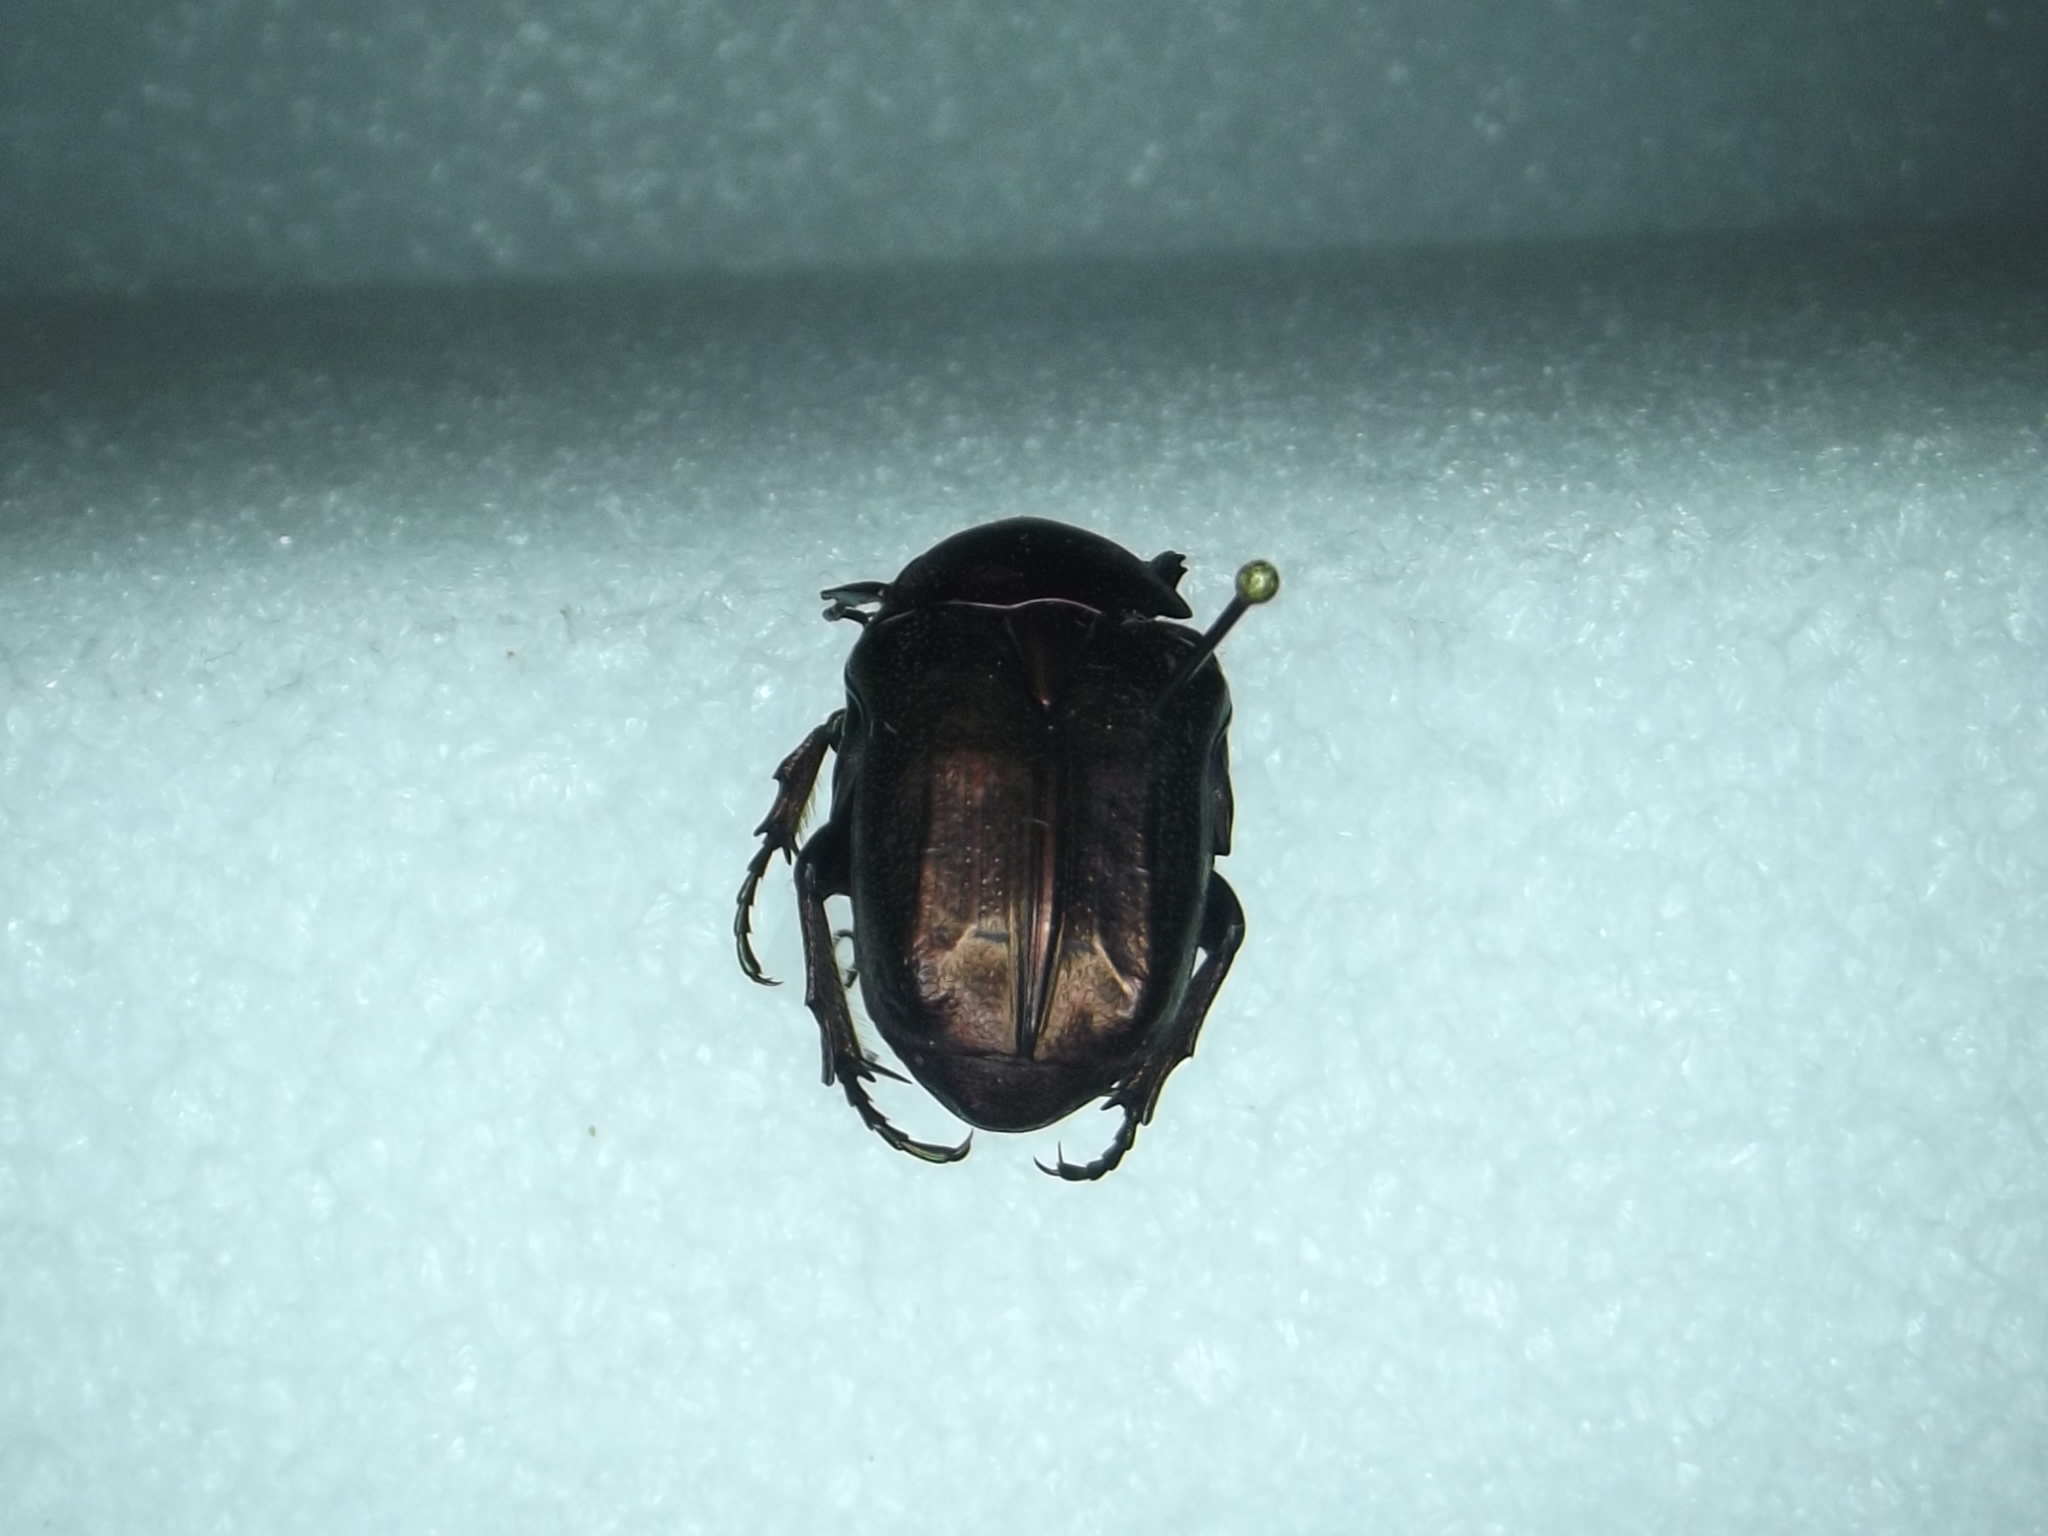Cetonia_aurata: (724, 449, 1255, 1208)
